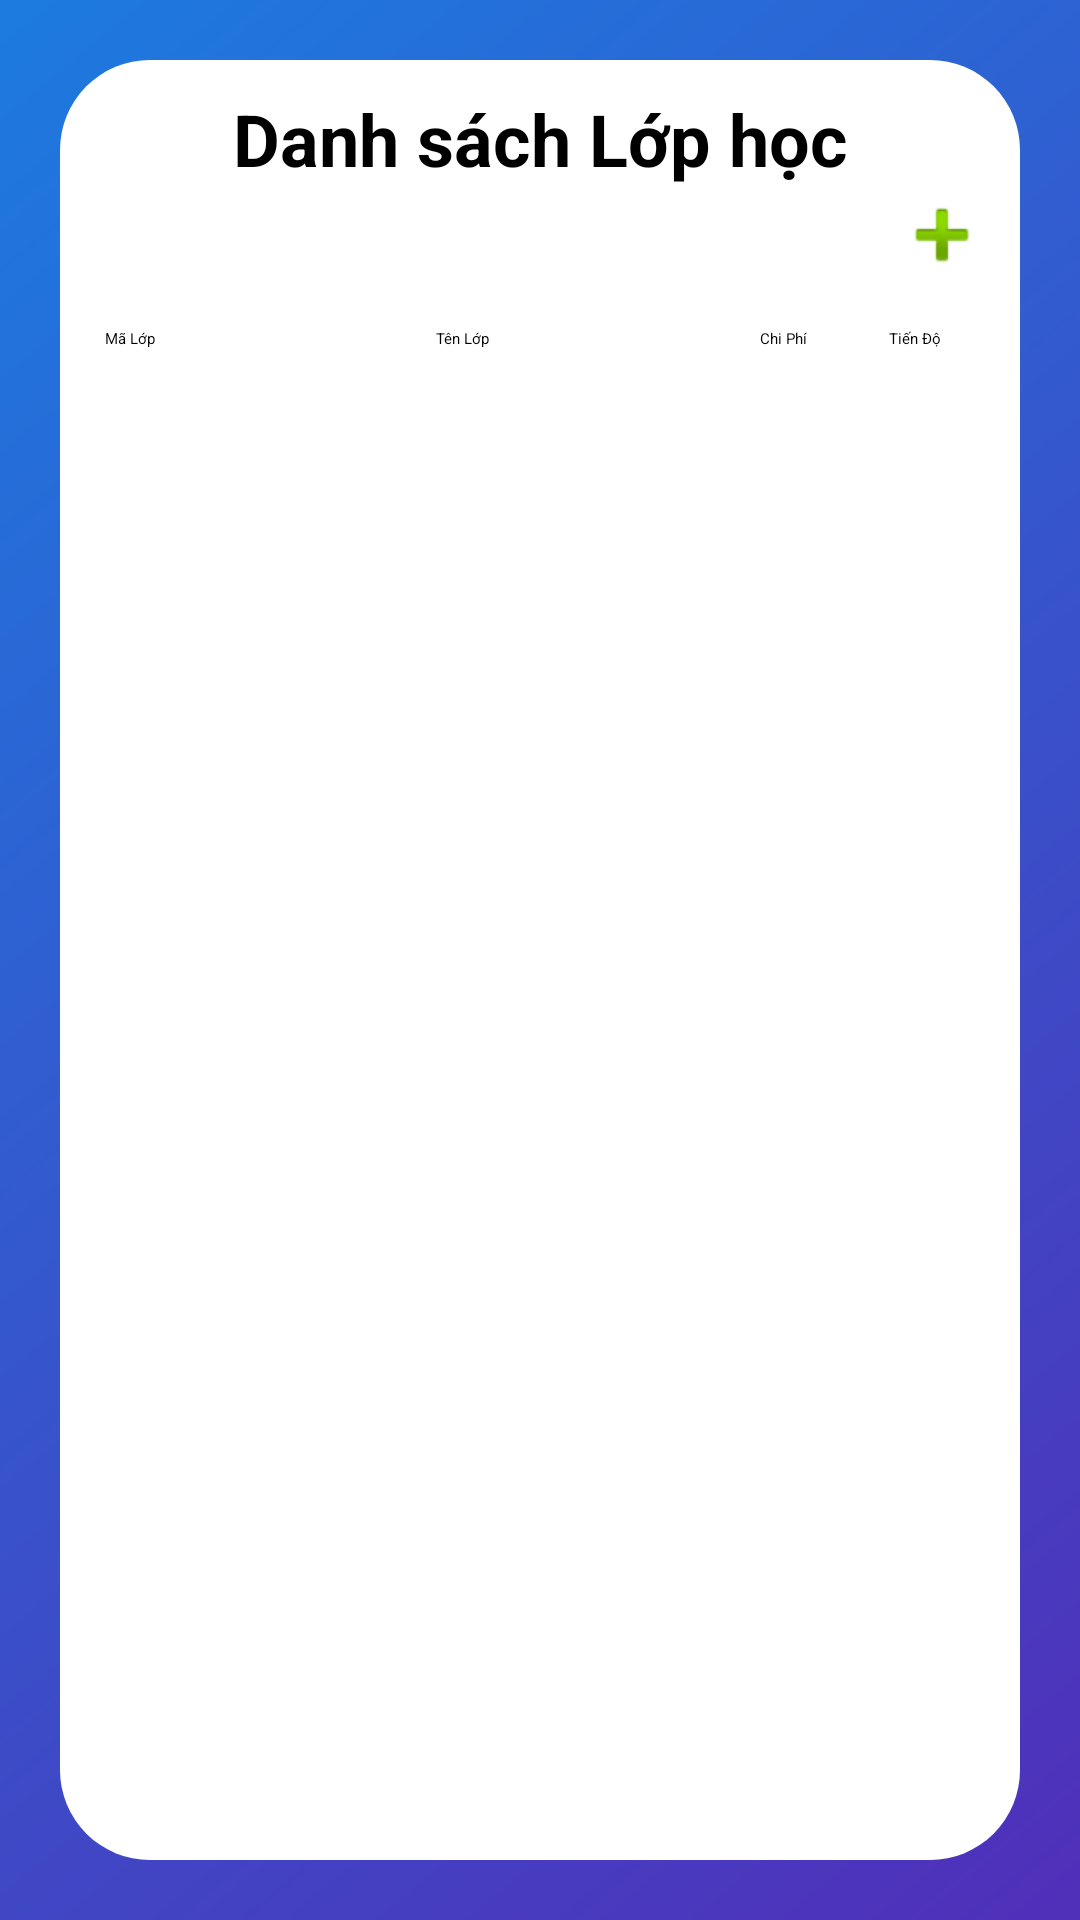

Point at icon controls on the screen. Image size 1080*1920, points as [x,y].
add: [942,235]
